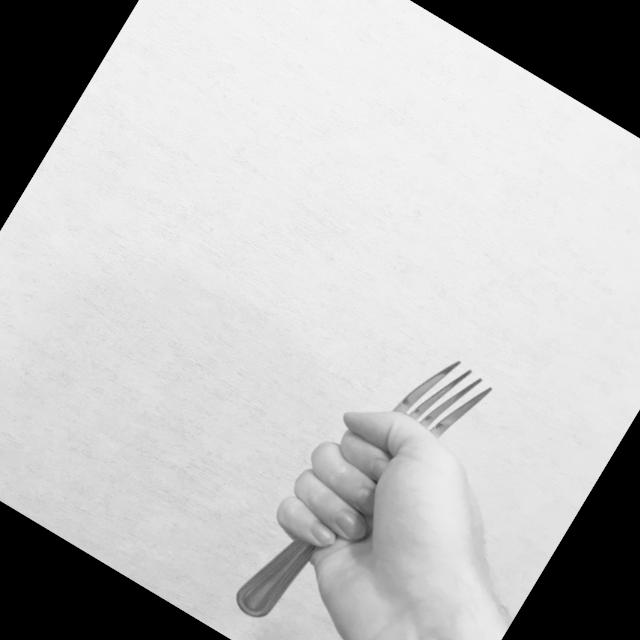fork: (228, 322, 500, 640)
